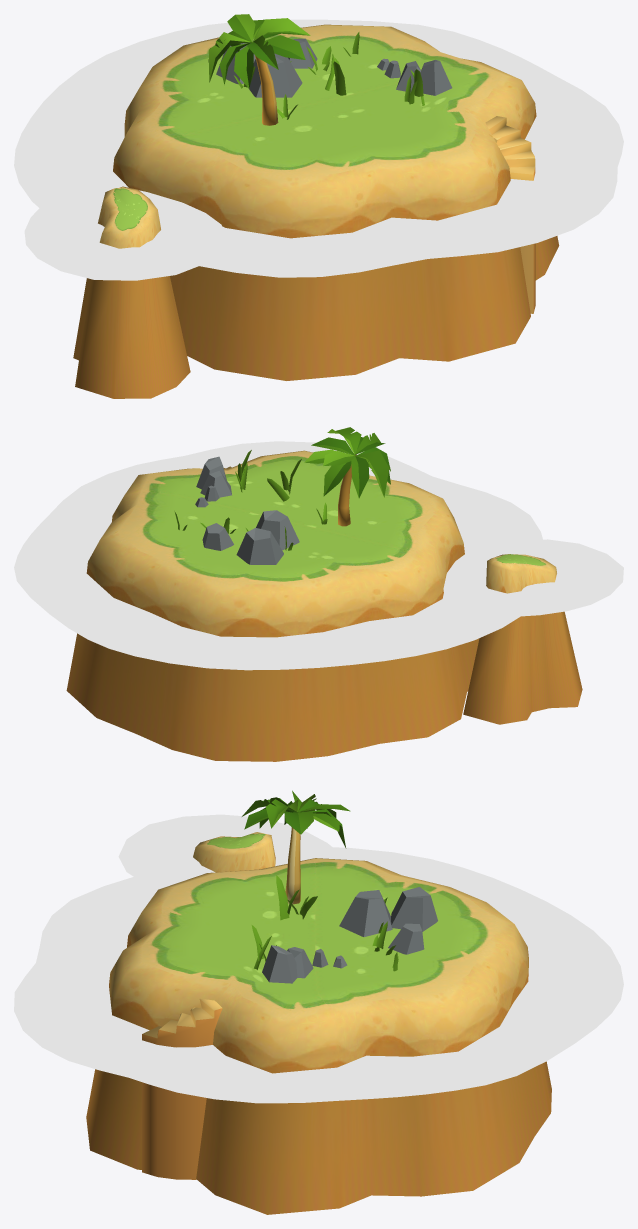
The model's file is Island_Big_03.fbx.
3 renders of one model, top to bottom at view 1: azimuth 30°, elevation 25°; view 2: azimuth 150°, elevation 25°; view 3: azimuth 270°, elevation 25°, orthographic. The views are drawn at different scales.
Parts seen in each view (by area): view 1: Island_Color_04, Wave_sleeve, Island_Color_05, Color_09, Island_Color_07, Color_07, Color_02, Color_04; view 2: Island_Color_04, Wave_sleeve, Island_Color_05, Color_09, Color_07, Color_02, Color_04; view 3: Island_Color_04, Wave_sleeve, Island_Color_07, Color_07, Color_09, Island_Color_05, Color_02, Color_04.
Boxes of the visible parts, <box> form: Island_Color_04: <box>113,24,559,380</box>; Wave_sleeve: <box>14,19,623,280</box>; Island_Color_05: <box>73,186,190,398</box>; Color_09: <box>208,14,310,125</box>; Island_Color_07: <box>485,116,535,313</box>; Color_07: <box>216,38,317,97</box>; Color_02: <box>377,58,452,95</box>; Color_04: <box>325,54,424,105</box>; Island_Color_04: <box>66,450,479,761</box>; Wave_sleeve: <box>14,441,623,670</box>; Island_Color_05: <box>463,554,582,724</box>; Color_09: <box>304,427,390,526</box>; Color_07: <box>202,510,299,564</box>; Color_02: <box>195,456,231,507</box>; Color_04: <box>238,450,301,501</box>; Island_Color_04: <box>86,858,551,1214</box>; Wave_sleeve: <box>14,814,623,1103</box>; Island_Color_07: <box>142,998,222,1179</box>; Color_07: <box>339,887,437,954</box>; Color_09: <box>242,790,350,904</box>; Island_Color_05: <box>193,832,275,872</box>; Color_02: <box>262,945,347,983</box>; Color_04: <box>251,875,317,969</box>.
Bounding box in the file's own units: 99.47 × 46.09 × 90.22.
